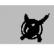not correct: (14, 11, 50, 43)
